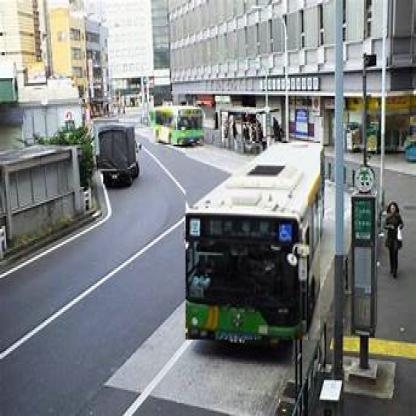bus: (187, 143, 323, 343), (150, 109, 206, 148)
